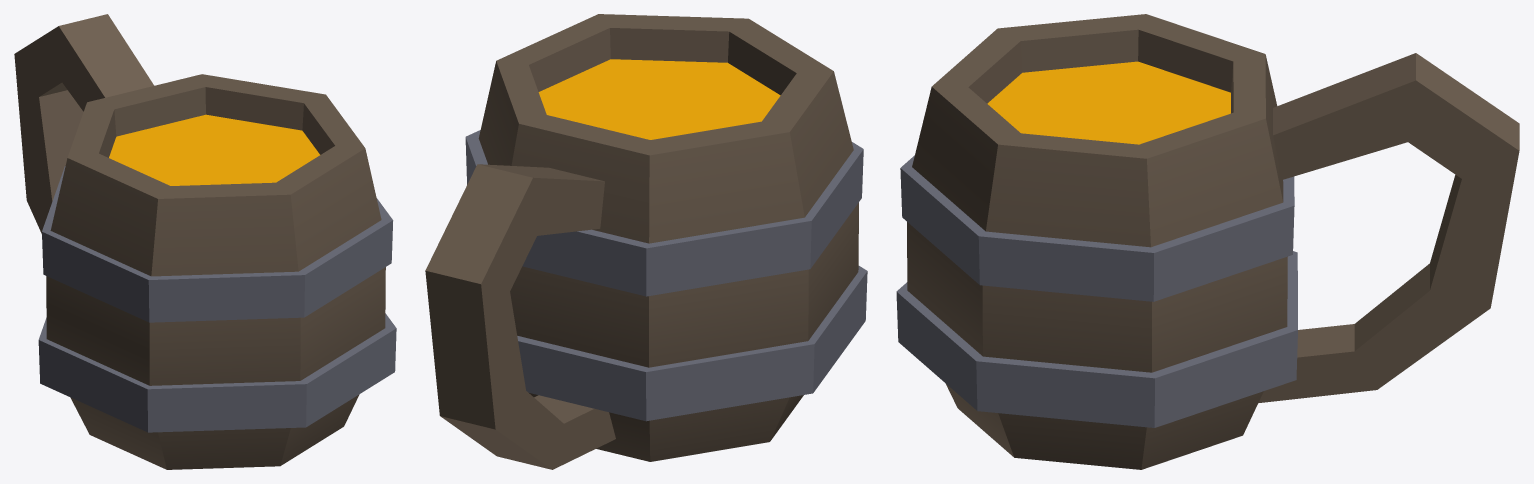
File: cup.glb
3 renders of one model, left to right at view 1: azimuth 30°, elevation 25°; view 2: azimuth 150°, elevation 25°; view 3: azimuth 270°, elevation 25°, orthographic. The views are drawn at different scales.
Visible parts, largest first — view 1: cup; view 2: cup; view 3: cup.
Boxes of the visible parts, x1,y1,x2,y2 form: cup: (14,14,396,469); cup: (425,14,867,469); cup: (896,14,1519,469).
Bounding box in the file's own units: 0.0793 × 0.073 × 0.12.
1 material, 1 textured.
